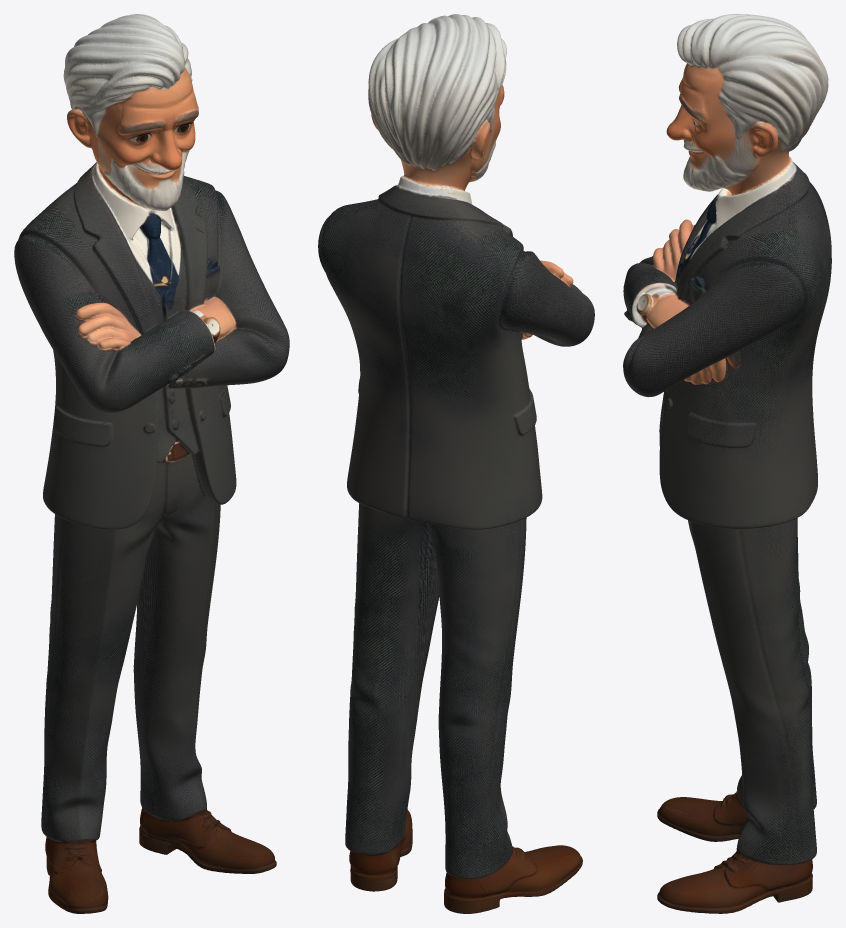
File: Professor_NPC_Meshy.glb
3 renders of one model, left to right at view 1: azimuth 30°, elevation 25°; view 2: azimuth 150°, elevation 25°; view 3: azimuth 270°, elevation 25°, orthographic.
Visible parts, largest first — view 1: Mesh_0.002; view 2: Mesh_0.002; view 3: Mesh_0.002.
Boxes of the visible parts, box(x1,y1,x2,y2) form: Mesh_0.002: box(14, 14, 289, 913); Mesh_0.002: box(318, 14, 594, 913); Mesh_0.002: box(623, 14, 831, 913).
Bounding box in the file's own units: 0.4382 × 1.7 × 0.379.
1 material, 1 textured.
